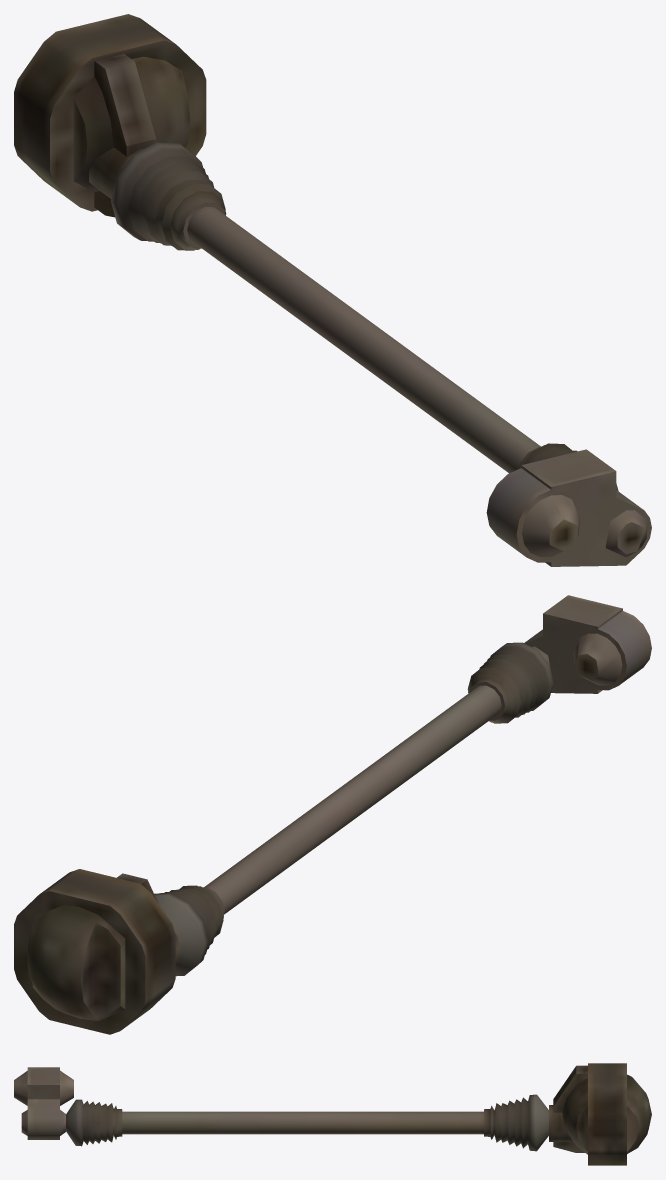
Rendered from chassis_transmission.glb.
3 views of the same model, one above another, from view 1: azimuth 30°, elevation 25°; view 2: azimuth 150°, elevation 25°; view 3: azimuth 270°, elevation 25° (orthographic). The views are drawn at different scales.
Visible parts, largest first — view 1: LOD0; view 2: LOD0; view 3: LOD0.
Part boxes in pixels (left/top/right/bottom): LOD0: left=14, top=14, right=651, bottom=566; LOD0: left=14, top=595, right=651, bottom=1034; LOD0: left=14, top=1063, right=651, bottom=1165.
Size of what is drawn, in the model's own units: 0.4134 by 0.2934 by 2.04.
1 material, 1 textured.
